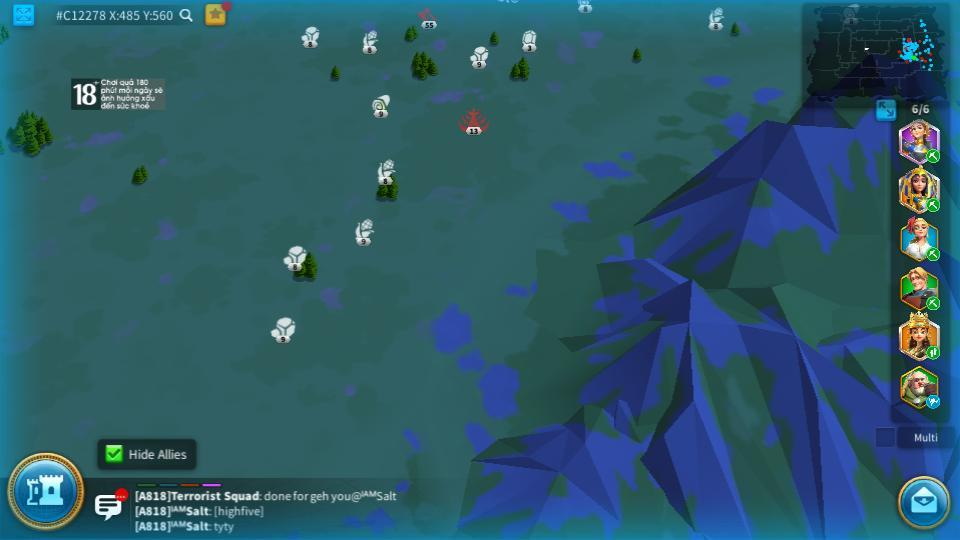gem-z-out: (519, 28, 538, 50)
march_idle: (925, 394, 942, 408)
march_marching: (925, 197, 941, 212), (924, 345, 939, 359), (925, 297, 941, 310), (925, 149, 941, 162), (923, 248, 940, 260)
